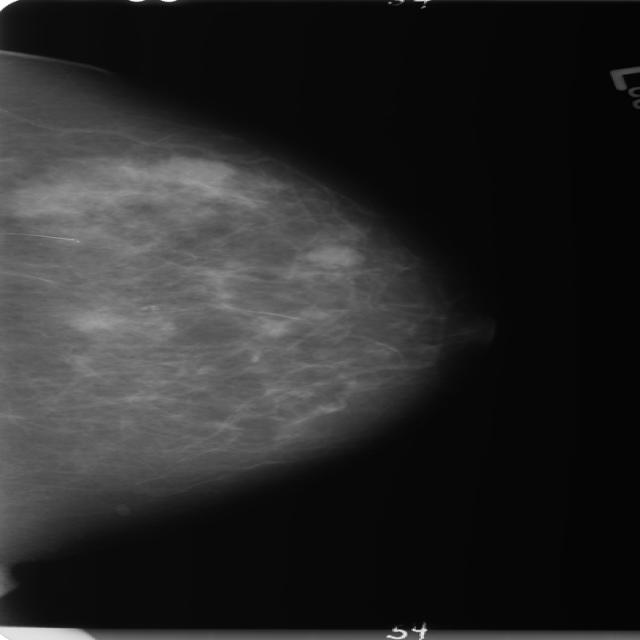tumour: (302, 241, 362, 268)
